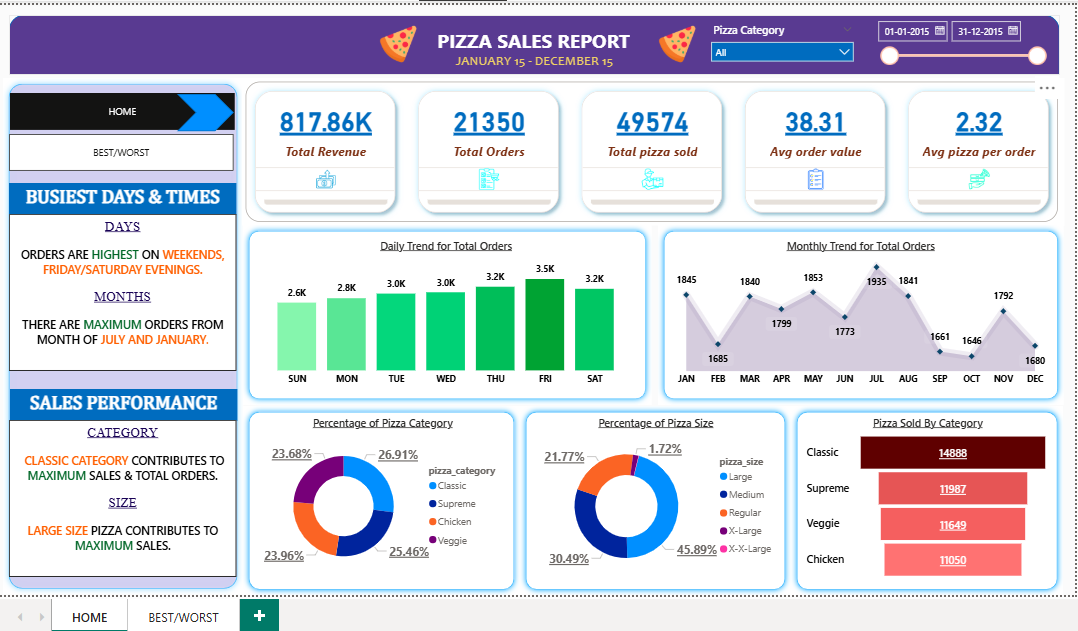

Layout of this report page (visuals, bound fields, positions):
{"tool":"powerbi","page":{"name":"HOME","canvas":[1500,820],"ordinal":0},"visuals":[{"type":"shape","box":[11.3,101.6,333.9,717.7],"z":0},{"type":"cardVisual","fields":{"Data":["pizza_sales.Total Revenue","pizza_sales.Total Orders","pizza_sales.Total pizza sold","pizza_sales.Avg order value","pizza_sales.Avg pizza per order"]},"box":[343.3,101.7,1143.3,205],"z":1000},{"type":"shape","box":[20,13.3,1460,83.3],"z":2000},{"type":"textbox","box":[513.3,26.7,471.7,55],"z":3000},{"type":"textbox","box":[628.3,60,243.3,41.7],"z":4000},{"type":"image","box":[524.2,27.4,72.6,53.2],"z":5000},{"type":"image","box":[911.3,27.4,72.6,53.2],"z":6000},{"type":"shape","box":[344,306,568,250],"z":7000},{"type":"columnChart","title":"Daily Trend for Total Orders","fields":{"Category":["pizza_sales.Order Day"],"Y":["pizza_sales.Total Orders"]},"box":[360,324,534,214],"z":8000},{"type":"shape","box":[922,306,564,250],"z":9000},{"type":"areaChart","title":"Monthly Trend for Total Orders","fields":{"Y":["pizza_sales.Total Orders"],"Category":["pizza_sales.Order Month"]},"box":[938,324,530,214],"z":10000},{"type":"shape","box":[345,556.7,385,263.3],"z":11000},{"type":"shape","box":[730,556.7,376.7,263.3],"z":12000},{"type":"shape","box":[1106.7,556.7,378.3,263.3],"z":13000},{"type":"donutChart","title":"Percentage of Pizza Category","fields":{"Category":["pizza_sales.pizza_category"],"Y":["pizza_sales.Total Revenue"]},"box":[361.7,570,355,233.3],"z":14000},{"type":"donutChart","title":"Percentage of Pizza Size","fields":{"Y":["pizza_sales.Total Revenue"],"Category":["pizza_sales.pizza_size"]},"box":[743.3,570,350,233.3],"z":15000},{"type":"funnel","title":"Pizza Sold By Category","fields":{"Category":["pizza_sales.pizza_category"],"Y":["pizza_sales.Total pizza sold"]},"box":[1123.3,570,346.7,233.3],"z":16000},{"type":"textbox","box":[19.4,246.8,316.1,43.5],"z":17000},{"type":"textbox","box":[19.4,290.3,316.1,217.7],"z":18000},{"type":"textbox","box":[21,533.9,316.1,43.5],"z":19000},{"type":"textbox","box":[19.4,577.4,316.1,217.7],"z":20000},{"type":"slicer","fields":{"Values":["pizza_sales.pizza_category"]},"box":[985.5,19.4,217.7,69.4],"z":21000},{"type":"slicer","fields":{"Values":["pizza_sales.order_date"]},"box":[1214.5,12.9,254.8,83.9],"z":22000},{"type":"pageNavigator","box":[21,122.6,312.9,51.6],"z":23000},{"type":"pageNavigator","box":[19.4,179,312.9,51.6],"z":24000},{"type":"shape","box":[253.6,123,79,51.6],"z":24001}]}

Visuals, with their boxes on the page's 1500x820 design canvas (x1, y1, x2, y2). These are canvas units, not pixel positions in the 1078x631 screenshot, which may show the page scaled, cropped or inside an application window:
shape: locate(11, 102, 345, 819)
cardVisual - pizza_sales.Total Revenue x pizza_sales.Total Orders: locate(343, 102, 1487, 307)
shape: locate(20, 13, 1480, 97)
textbox: locate(513, 27, 985, 82)
textbox: locate(628, 60, 872, 102)
image: locate(524, 27, 597, 81)
image: locate(911, 27, 984, 81)
shape: locate(344, 306, 912, 556)
"Daily Trend for Total Orders" columnChart: locate(360, 324, 894, 538)
shape: locate(922, 306, 1486, 556)
"Monthly Trend for Total Orders" areaChart: locate(938, 324, 1468, 538)
shape: locate(345, 557, 730, 820)
shape: locate(730, 557, 1107, 820)
shape: locate(1107, 557, 1485, 820)
"Percentage of Pizza Category" donutChart: locate(362, 570, 717, 803)
"Percentage of Pizza Size" donutChart: locate(743, 570, 1093, 803)
"Pizza Sold By Category" funnel: locate(1123, 570, 1470, 803)
textbox: locate(19, 247, 336, 290)
textbox: locate(19, 290, 336, 508)
textbox: locate(21, 534, 337, 577)
textbox: locate(19, 577, 336, 795)
slicer - pizza_sales.pizza_category: locate(986, 19, 1203, 89)
slicer - pizza_sales.order_date: locate(1214, 13, 1469, 97)
pageNavigator: locate(21, 123, 334, 174)
pageNavigator: locate(19, 179, 332, 231)
shape: locate(254, 123, 333, 175)
